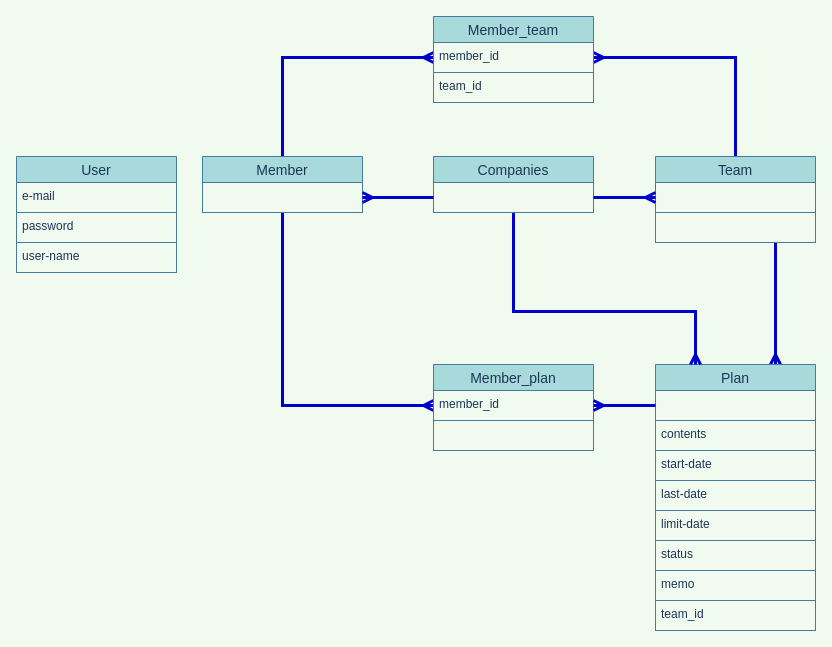
Image size: 832x647. Some labels were removed from this diagram. Here are the shapes that lost their labels. From the top down, the centre of each, then its label:
At point (282, 197): "member_name".
At point (513, 197): "company_name".
At point (735, 197): "team_name".
At point (735, 227): "company_id".
At point (735, 405): "plan-name".
At point (513, 435): "plan_id".
